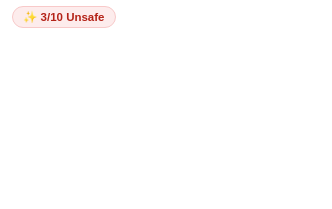
Scenario: shared interactive components › opens safety details and supports rechecking a photo
Later steps or results of the test are not shown.
Click the button "✨ 3/10 Unsafe": (64, 17) top-left (12, 6), bottom-right (116, 28)
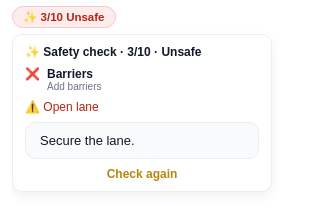
Expected: the text "Barriers" is shown, top-left (47, 67), bottom-right (93, 81)
Expected: the text "⚠️ Open lane" is shown, top-left (25, 100), bottom-right (99, 114)
